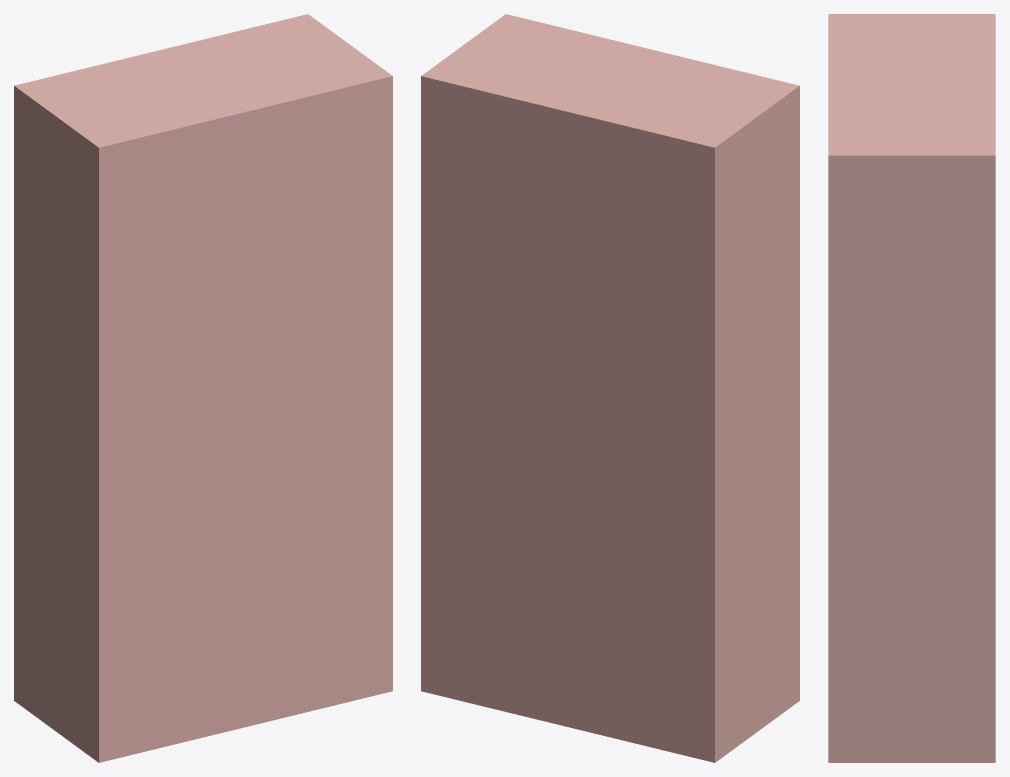
File: Wall_Basic.fbx
The picture shows the model from 3 angles, left to right: view 1: azimuth 30°, elevation 25°; view 2: azimuth 150°, elevation 25°; view 3: azimuth 270°, elevation 25°; orthographic projection.
Parts seen in each view (by area): view 1: Wall_Basic; view 2: Wall_Basic; view 3: Wall_Basic.
Boxes of the visible parts, bbox=[...] form: Wall_Basic: bbox=[14, 14, 392, 762]; Wall_Basic: bbox=[421, 14, 799, 762]; Wall_Basic: bbox=[828, 14, 995, 762].
Bounding box in the file's own units: 500 × 1000 × 250.
